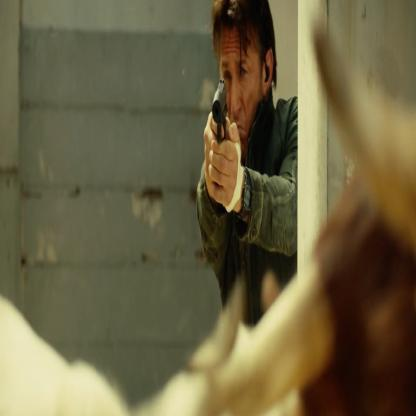gun: (199, 73, 232, 155)
